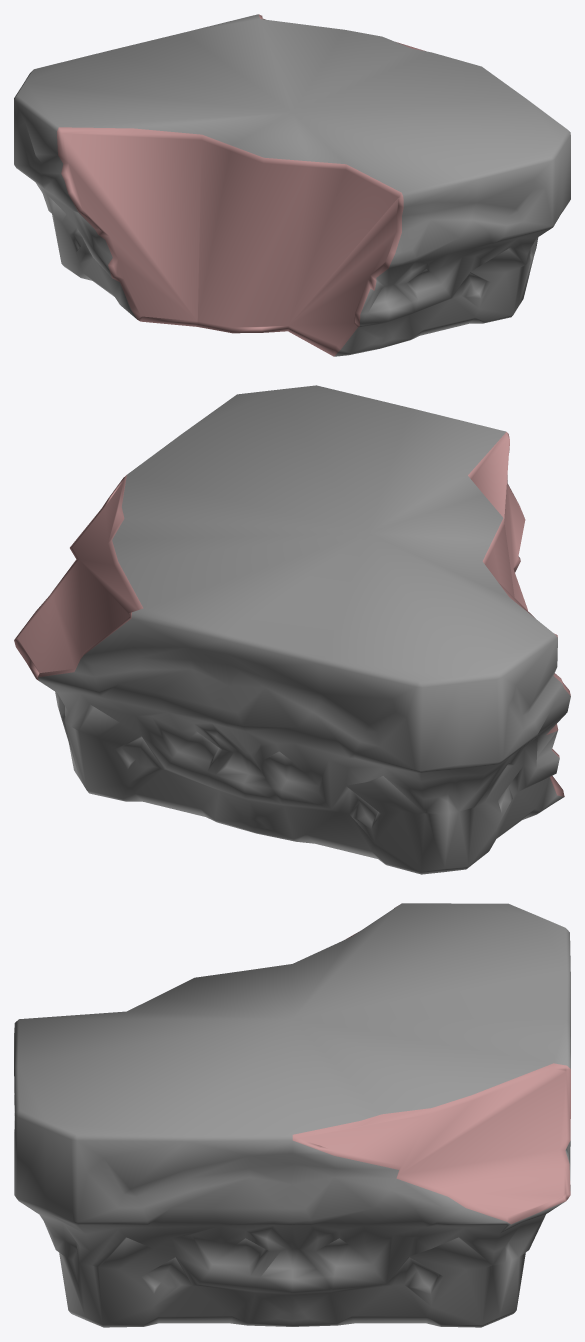
The model's file is RuineBroken6.FBX.
The picture shows the model from 3 angles, top to bottom: view 1: azimuth 30°, elevation 25°; view 2: azimuth 150°, elevation 25°; view 3: azimuth 270°, elevation 25°; orthographic projection. The views are drawn at different scales.
Parts seen in each view (by area): view 1: Ruine6; view 2: Ruine6; view 3: Ruine6.
Boxes of the visible parts, box(x1,y1,x2,y2) form: Ruine6: box(14, 14, 570, 356); Ruine6: box(14, 385, 570, 874); Ruine6: box(14, 903, 570, 1327).
Size of the model in its own units: 184 by 78.71 by 184.
